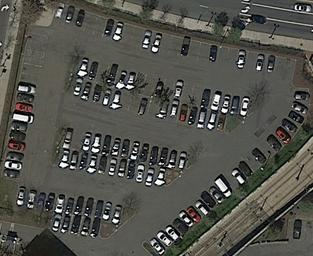parkingspot: (146, 86, 311, 256), (51, 2, 298, 78), (75, 57, 252, 118), (67, 73, 229, 134), (60, 126, 191, 172), (1, 53, 45, 182), (57, 146, 168, 188), (14, 185, 126, 225), (49, 211, 103, 241), (286, 218, 313, 243), (25, 39, 47, 54), (28, 24, 49, 36)
